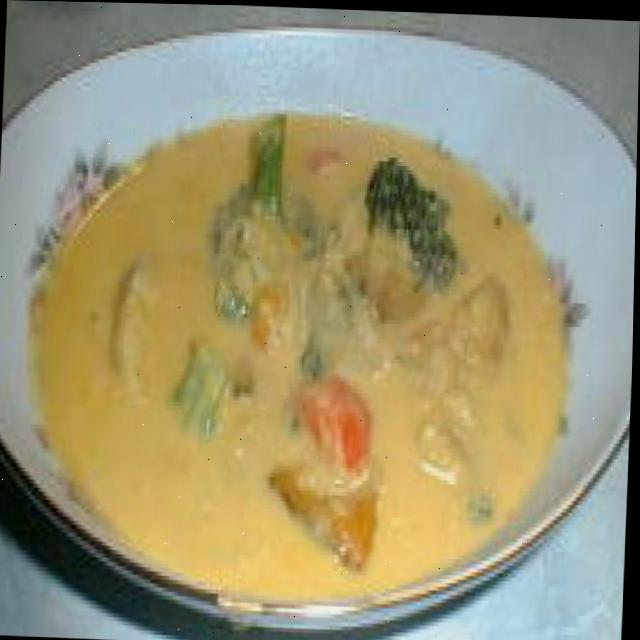汤锅炖物: (0, 6, 640, 640)
